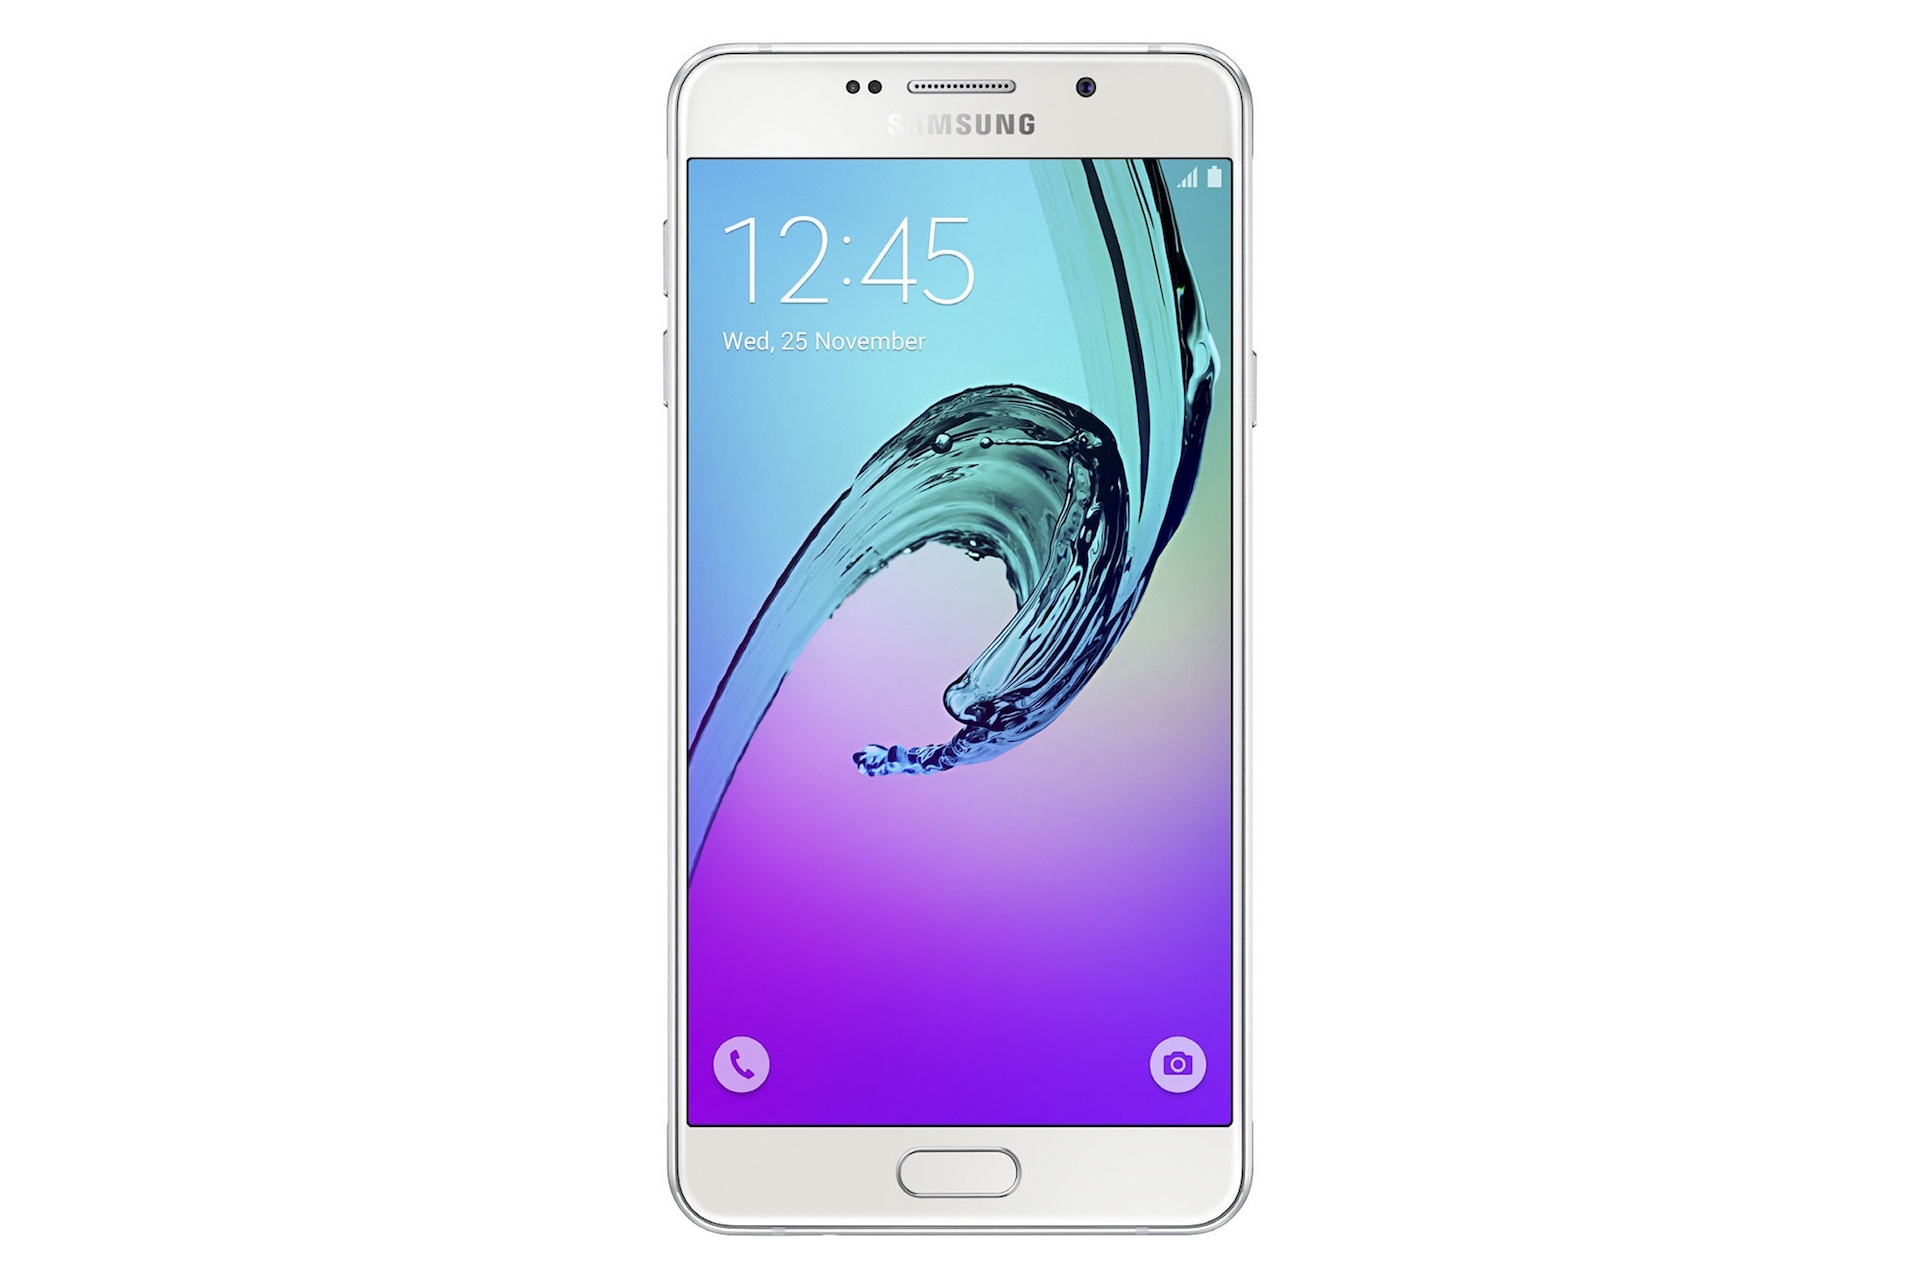smartphone: (660, 39, 1261, 1238)
